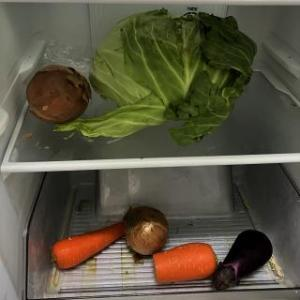cabbage: (86, 6, 258, 144)
carrot: (48, 220, 126, 272), (152, 243, 222, 287)
eggplant: (212, 229, 274, 291)
onion: (25, 64, 92, 125), (122, 206, 170, 256)
